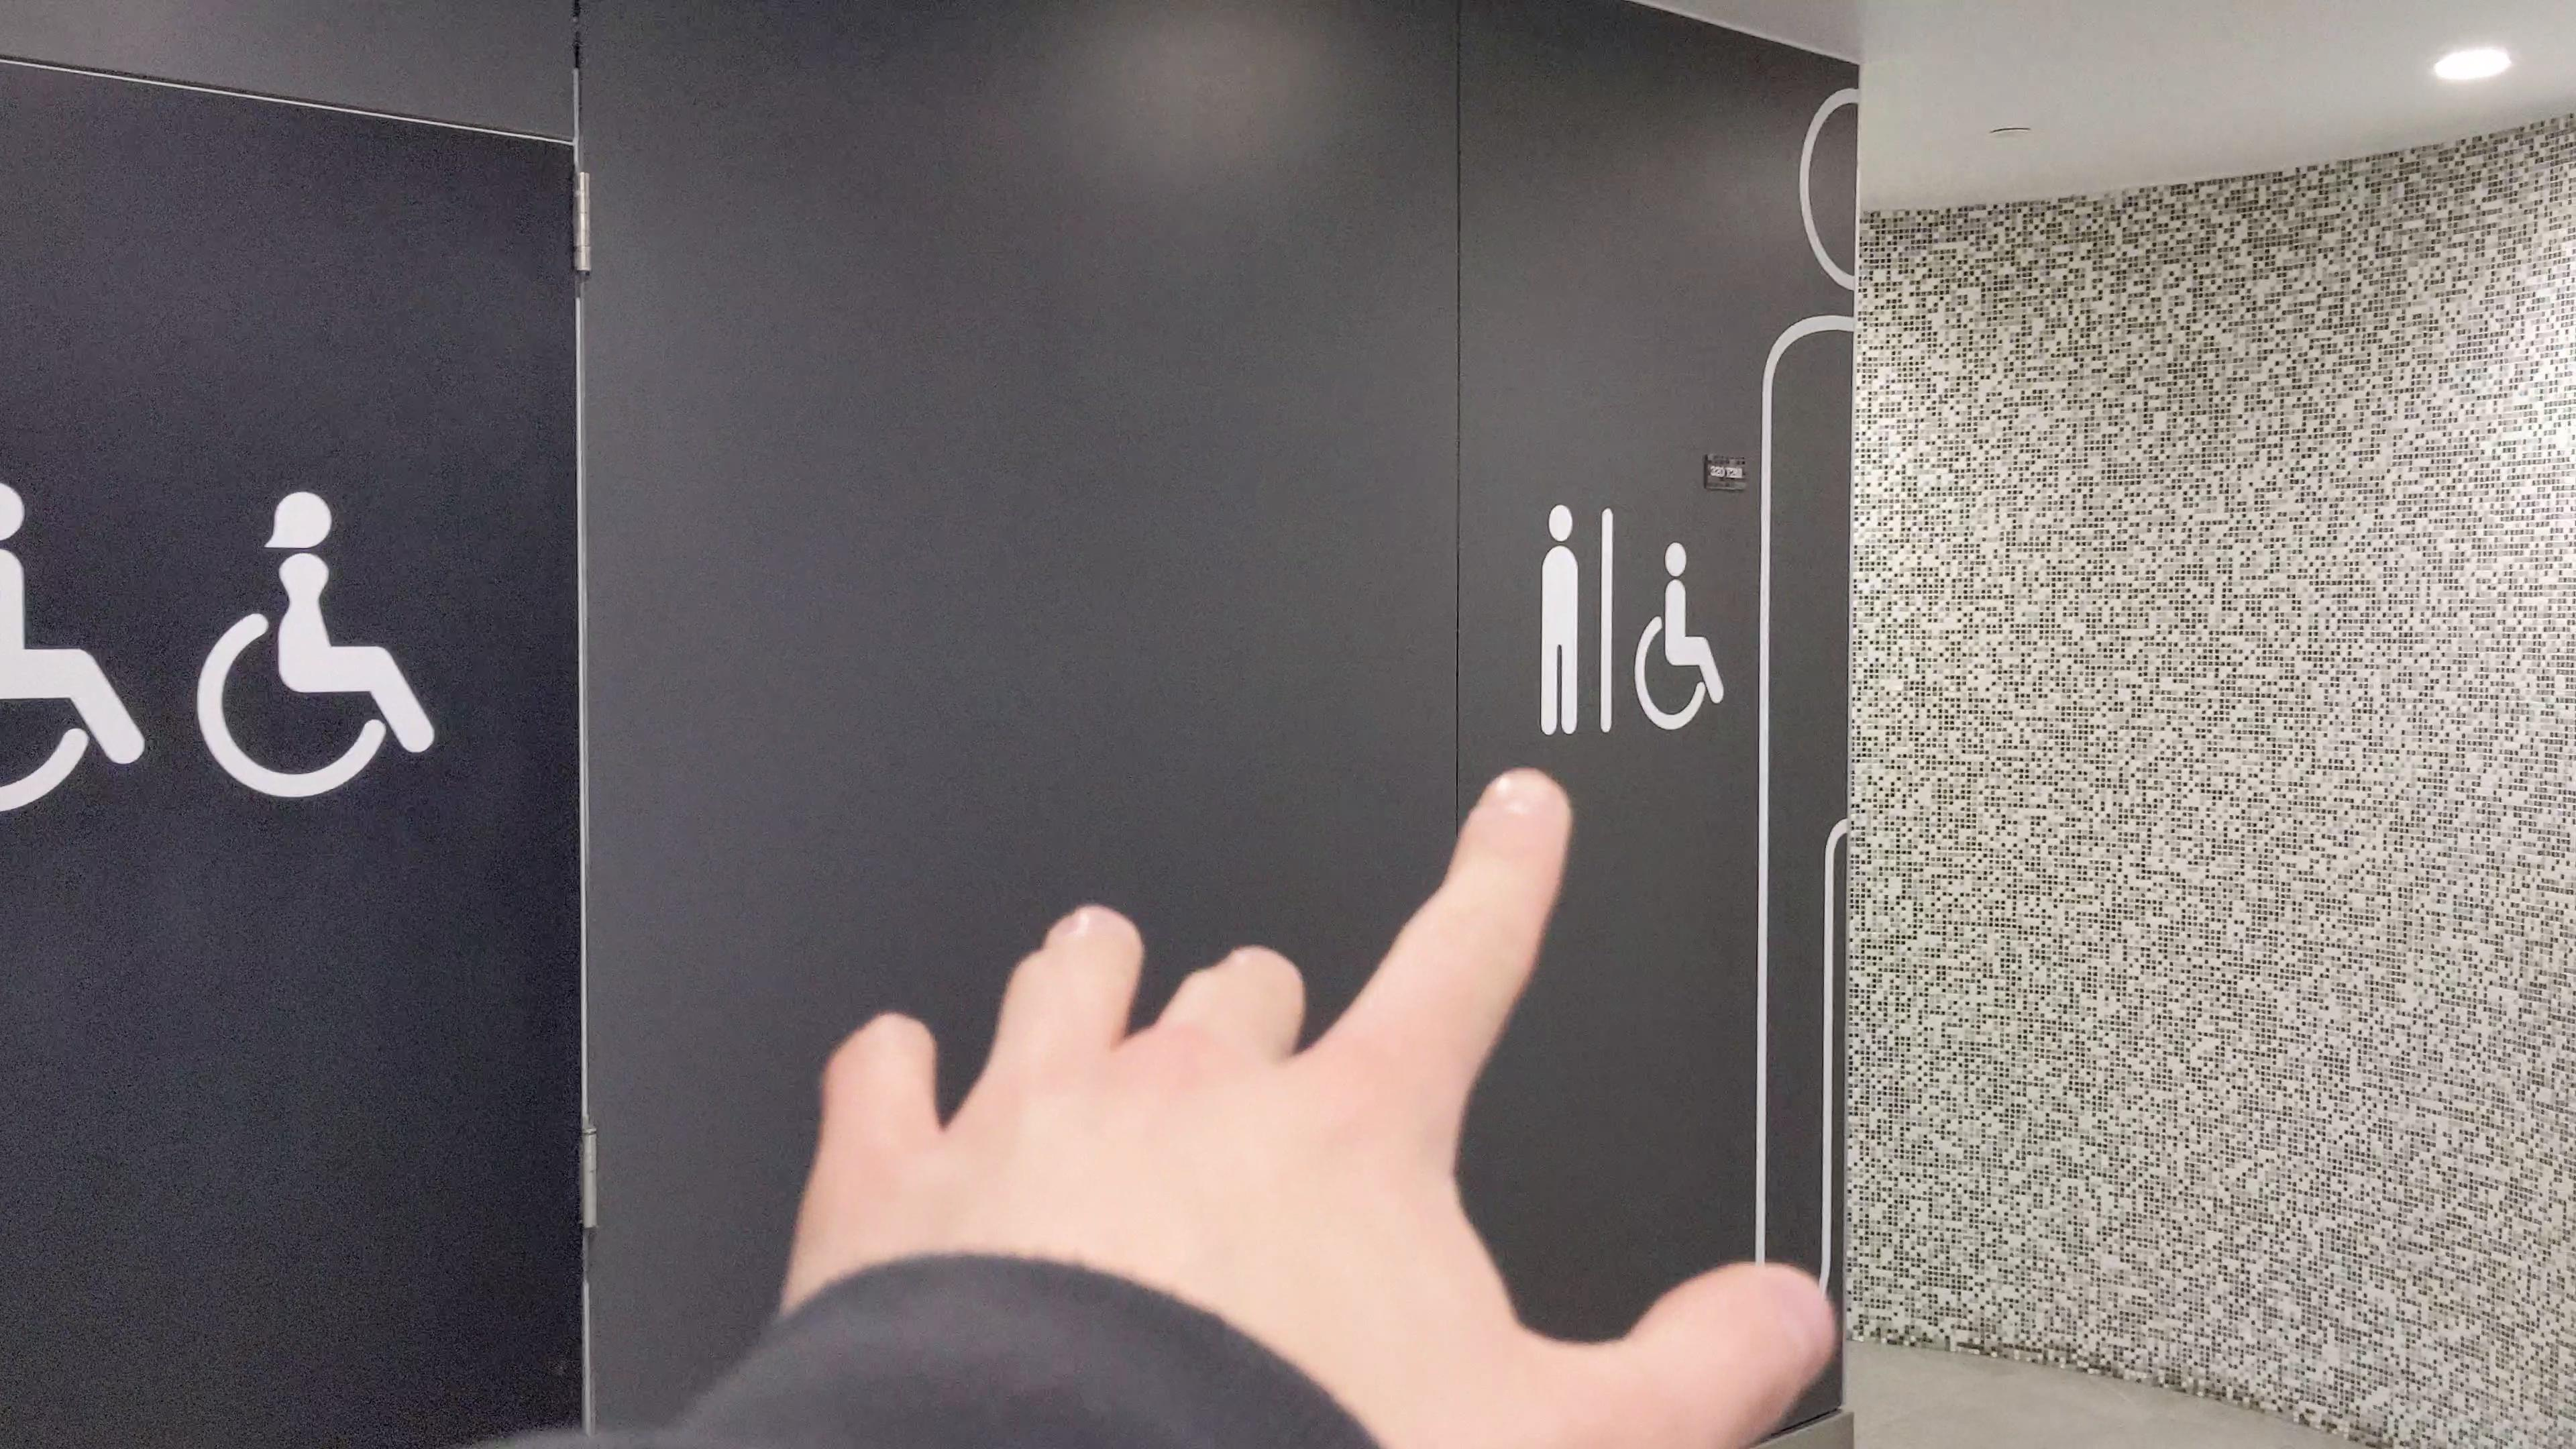handicapped symbol: (189, 488, 441, 803), (1633, 540, 1727, 732)
